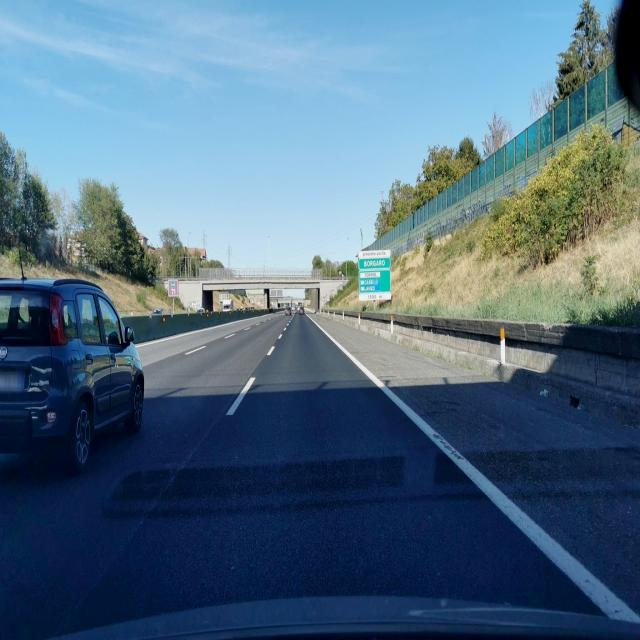car: (0, 273, 145, 475)
